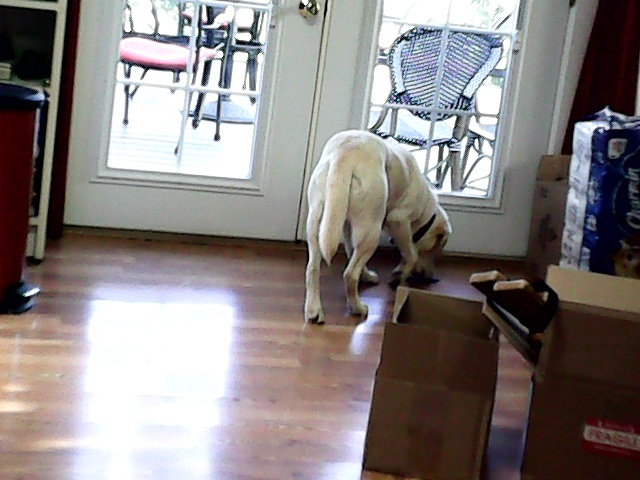dog: (287, 123, 454, 283)
